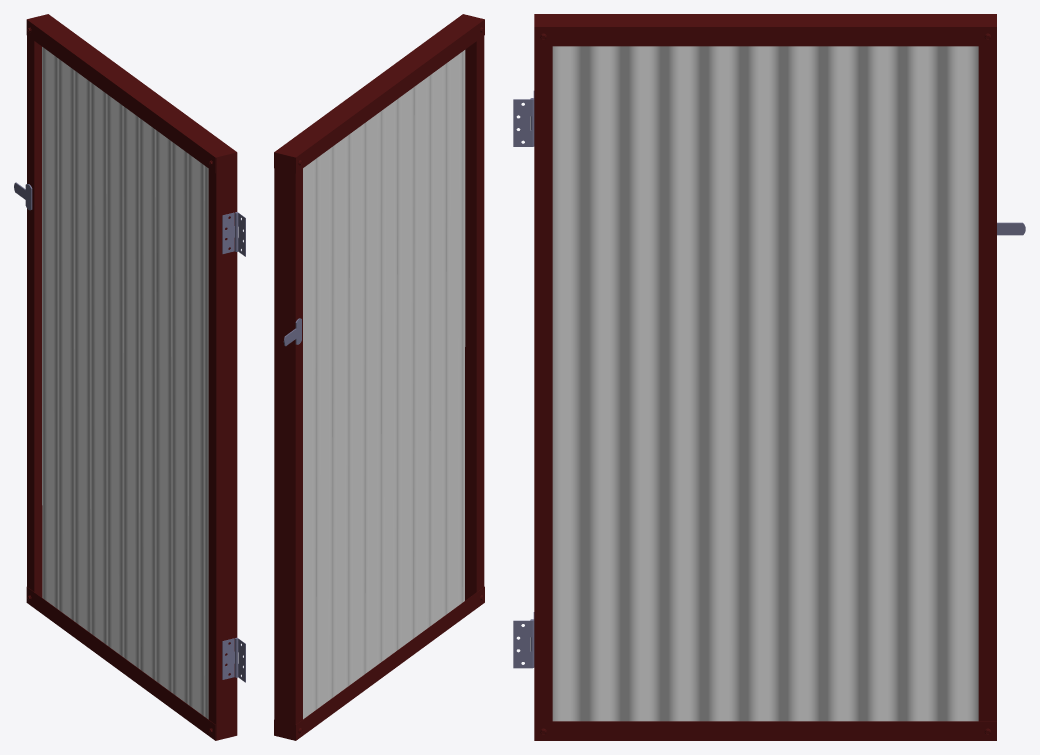
File: GCSG15.glb
3 views of the same model, side by side, from view 1: azimuth 30°, elevation 25°; view 2: azimuth 150°, elevation 25°; view 3: azimuth 270°, elevation 25° (orthographic). The views are drawn at different scales.
Parts seen in each view (by area): view 1: GC - GOOD NEIGHBOUR CGI-16 SINGLE DRIVEWAY GATE - VERTICAL -; view 2: GC - GOOD NEIGHBOUR CGI-16 SINGLE DRIVEWAY GATE - VERTICAL -; view 3: GC - GOOD NEIGHBOUR CGI-16 SINGLE DRIVEWAY GATE - VERTICAL -.
Boxes of the visible parts, bbox=[...] form: GC - GOOD NEIGHBOUR CGI-16 SINGLE DRIVEWAY GATE - VERTICAL -: bbox=[14, 14, 245, 740]; GC - GOOD NEIGHBOUR CGI-16 SINGLE DRIVEWAY GATE - VERTICAL -: bbox=[274, 14, 484, 740]; GC - GOOD NEIGHBOUR CGI-16 SINGLE DRIVEWAY GATE - VERTICAL -: bbox=[513, 14, 1025, 740].
Size of the model in its own units: 0.0696 by 1.51 by 0.9803.
